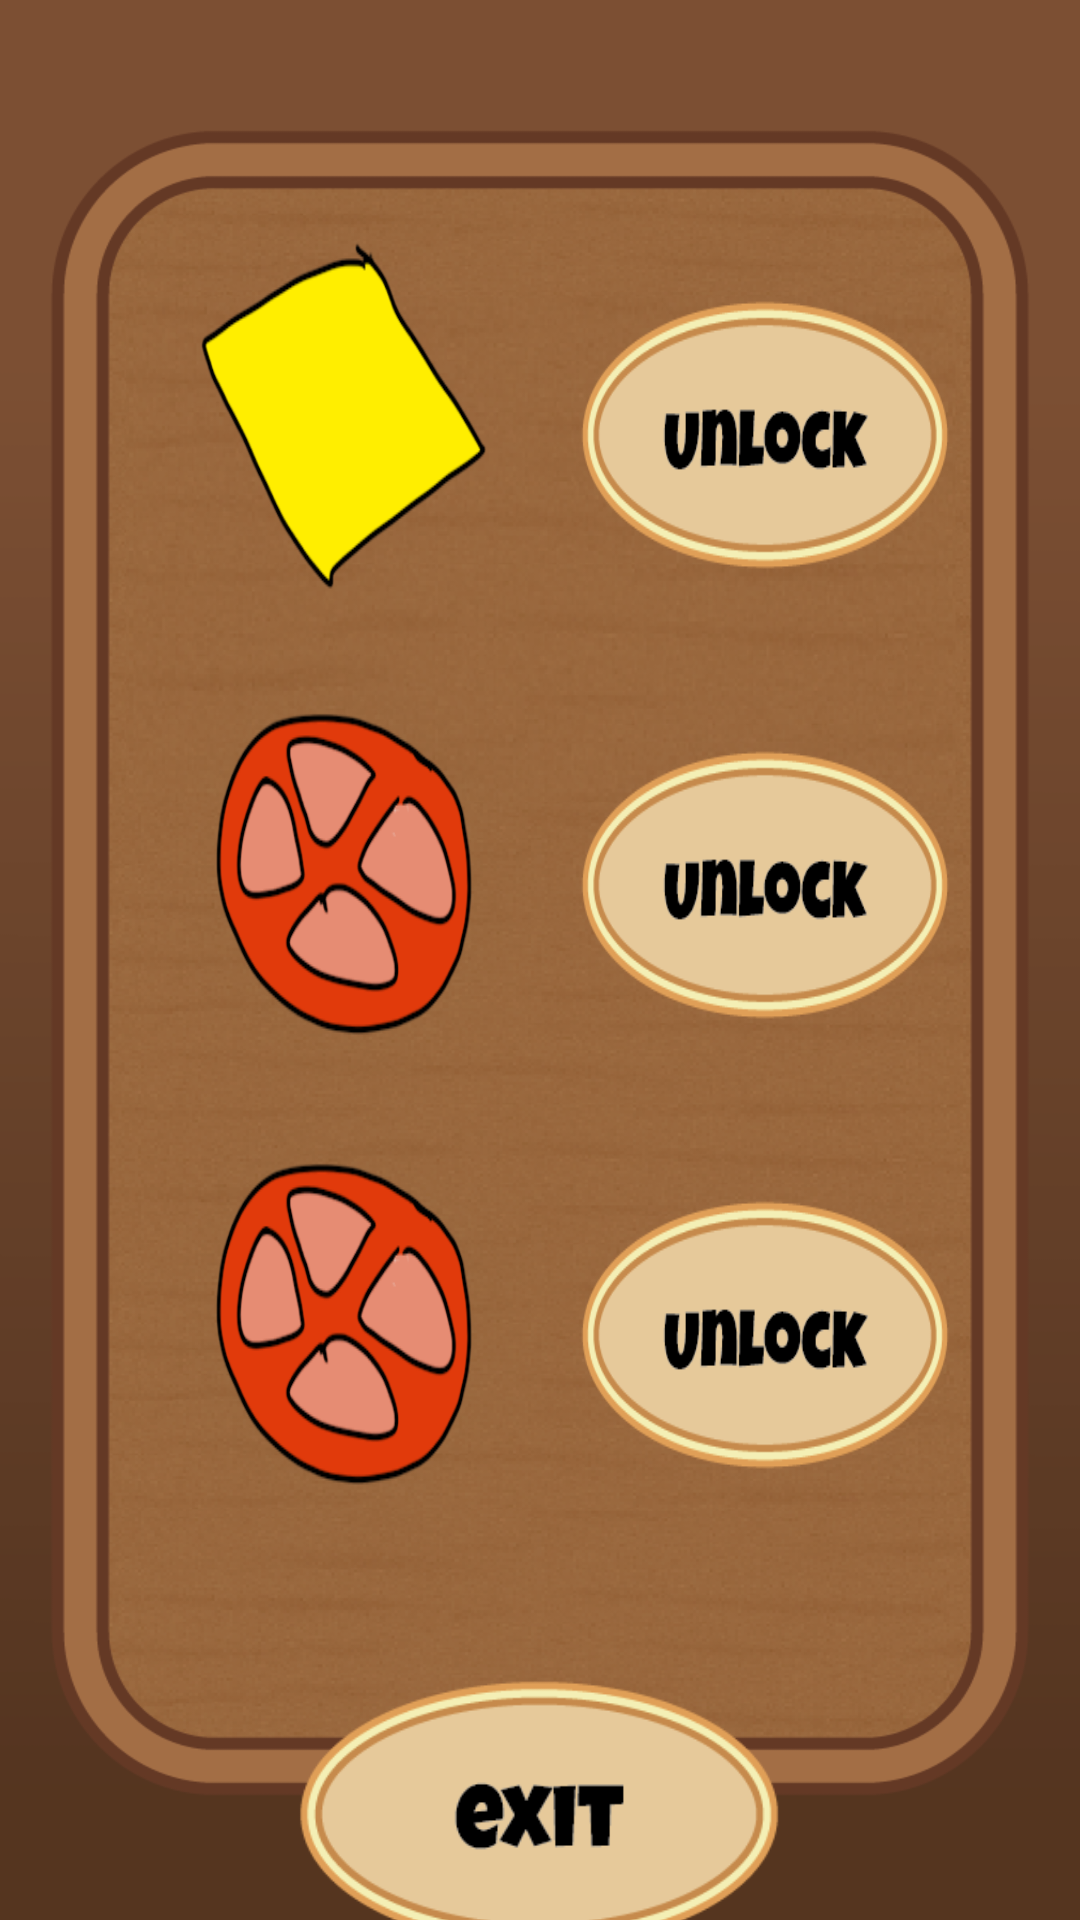

Screen size 1080x1920. Icon name, then its box in pixels as (x1, y1, x2, y2):
cheese: (202, 244, 486, 588)
tomato: (216, 714, 472, 1034), (216, 1164, 472, 1484)
